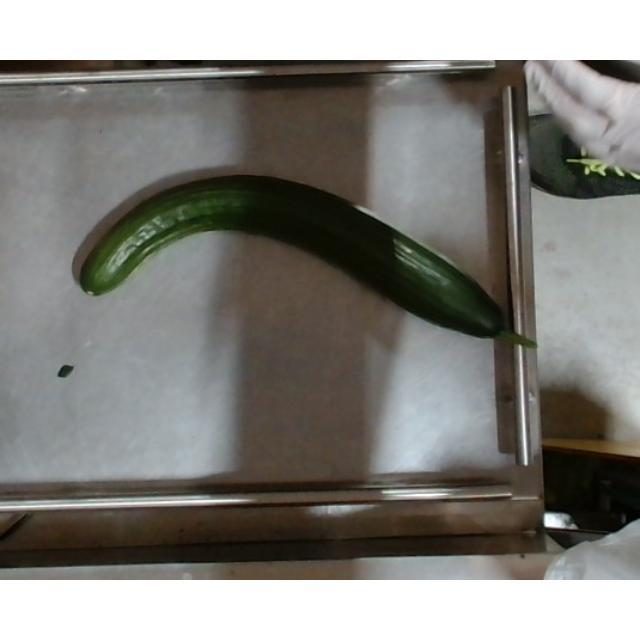cucumber: (80, 178, 538, 350)
